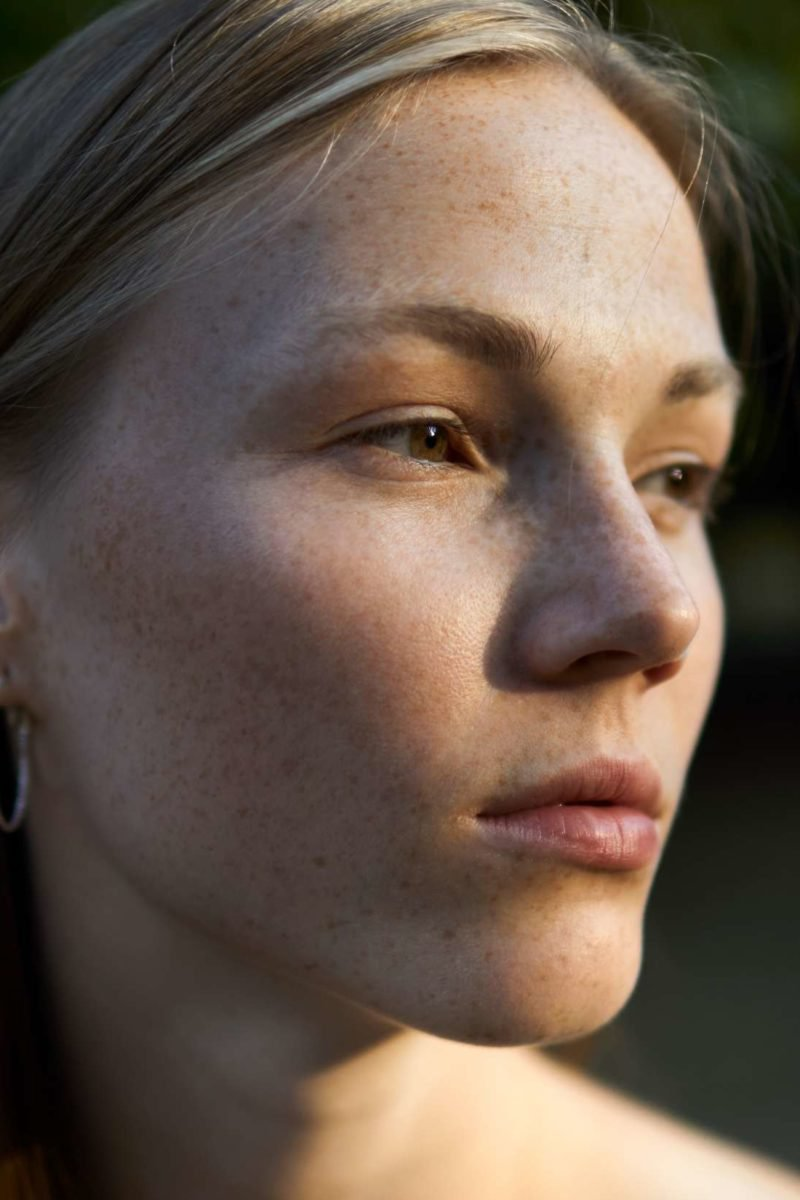noMask: (1, 15, 783, 1060)
